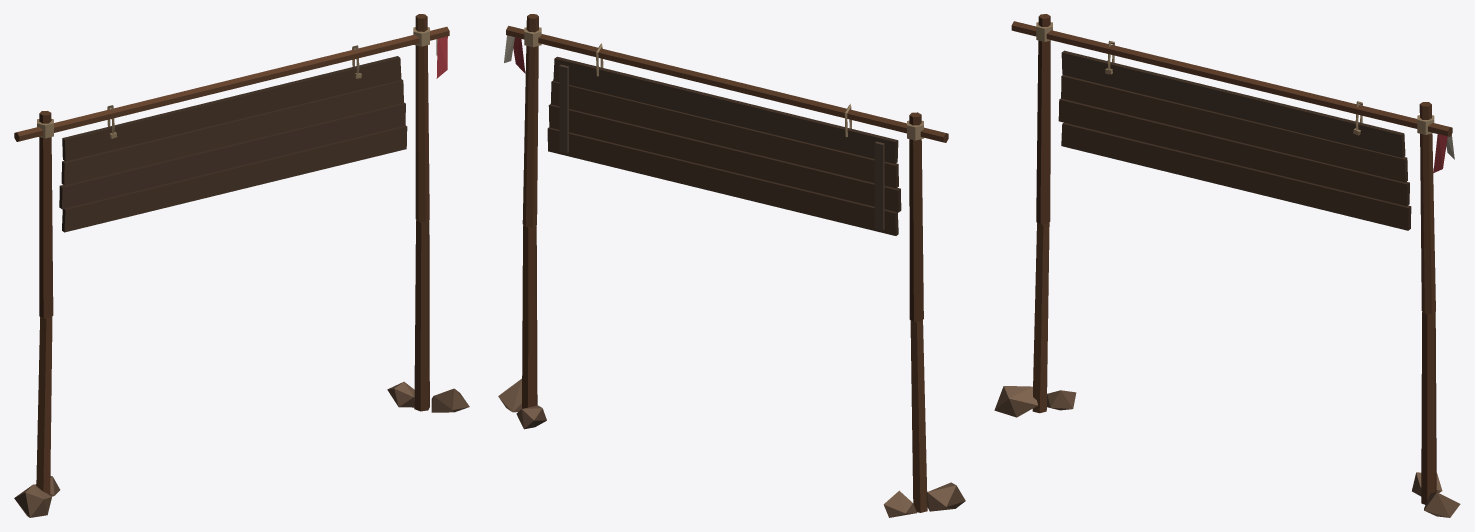
The model's file is tl_sign_stall_wide_v01.glb.
3 views of the same model, side by side, from view 1: azimuth 30°, elevation 25°; view 2: azimuth 150°, elevation 25°; view 3: azimuth 330°, elevation 25° (orthographic).
Visible parts, largest first — view 1: tl_sign_stall_wide_v01; view 2: tl_sign_stall_wide_v01; view 3: tl_sign_stall_wide_v01.
Boxes of the visible parts, x1=… form: tl_sign_stall_wide_v01: x1=14, y1=14, x2=469, y2=517; tl_sign_stall_wide_v01: x1=498, y1=14, x2=965, y2=517; tl_sign_stall_wide_v01: x1=994, y1=14, x2=1460, y2=517.
Bounding box in the file's own units: 3.93 × 3.32 × 0.5369.
